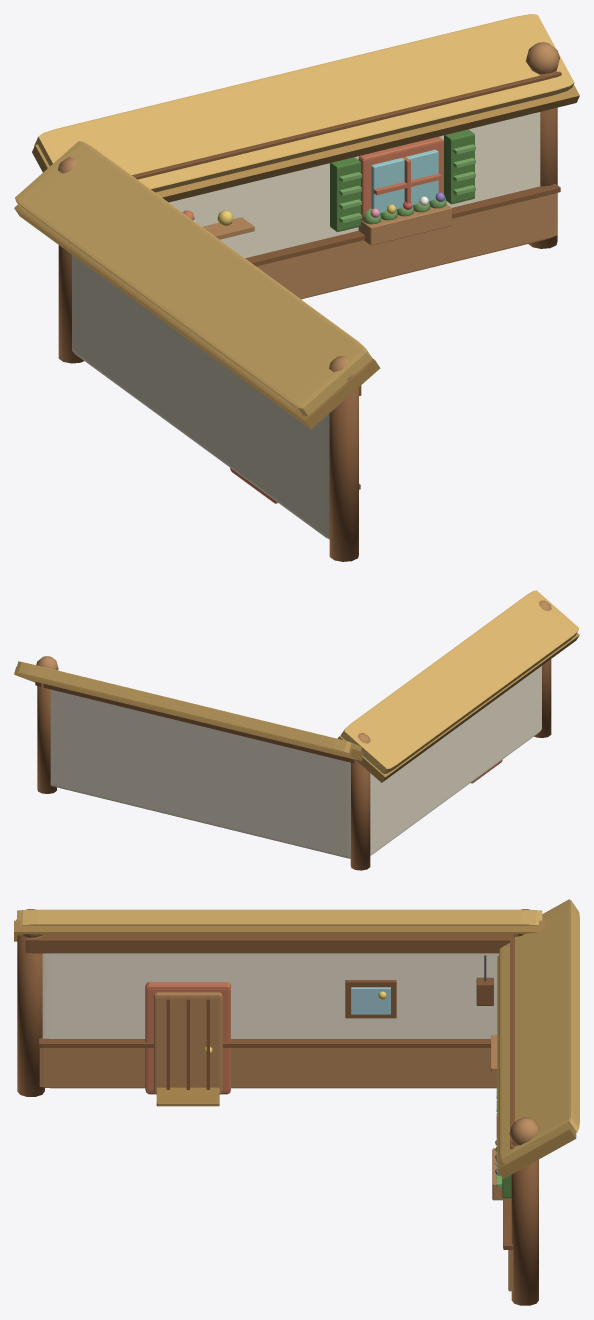
The model's file is house.glb.
The picture shows the model from 3 angles, top to bottom: view 1: azimuth 30°, elevation 25°; view 2: azimuth 150°, elevation 25°; view 3: azimuth 270°, elevation 25°; orthographic projection. The views are drawn at different scales.
Parts seen in each view (by area): view 1: house; view 2: house; view 3: house.
Boxes of the visible parts, x1,y1,x2,y2 form: house: (14, 14, 579, 561); house: (14, 590, 579, 870); house: (14, 899, 579, 1305).
Size of the model in its own units: 10.01 by 3.65 by 9.91.
